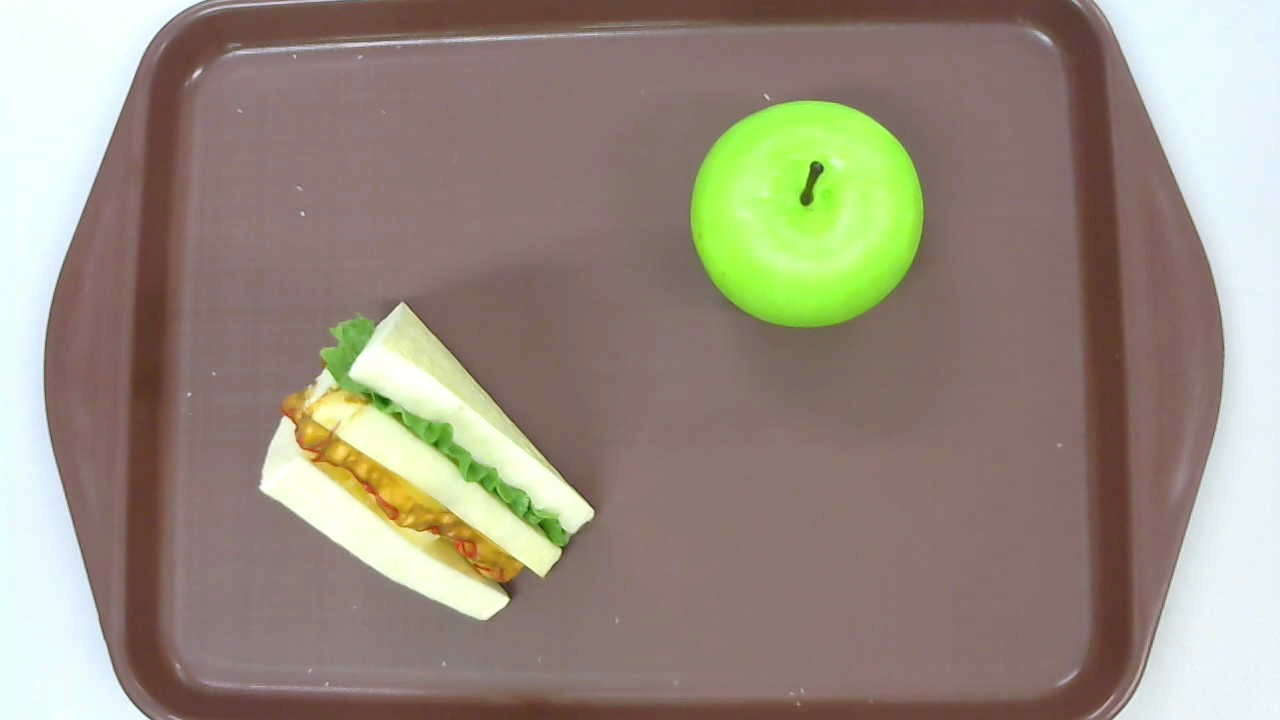green apple: (690, 100, 926, 332)
sandwich: (256, 301, 597, 622)
